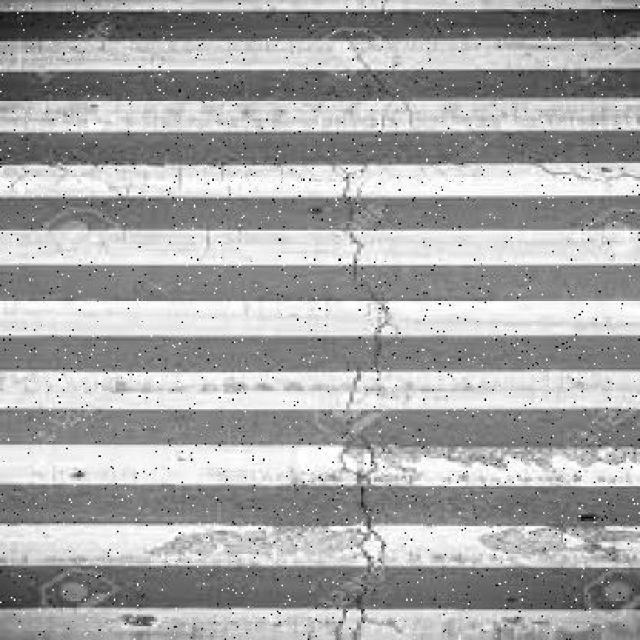Pedestrian crosswalk: (0, 0, 637, 638)
